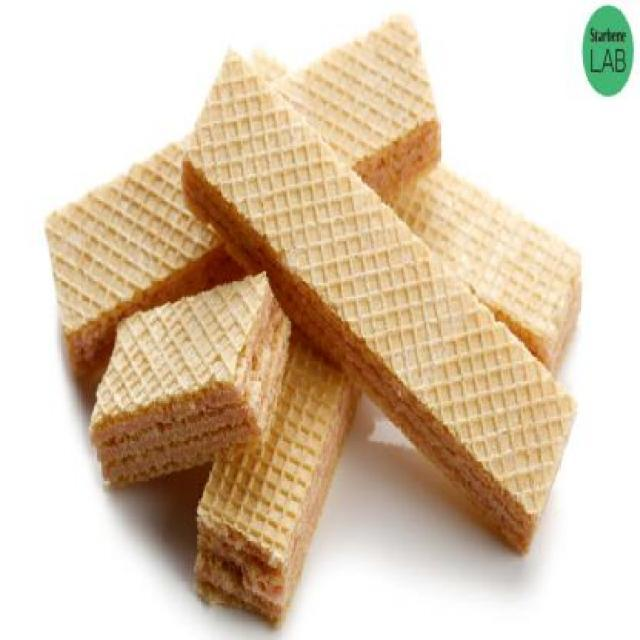Merendine packaged: (44, 11, 584, 634)
